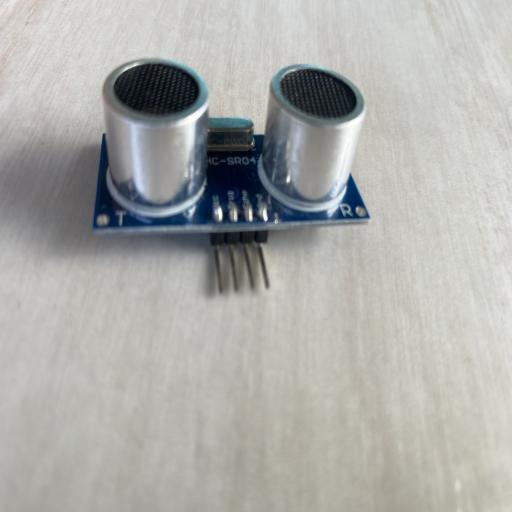Ultrasonic Sensor: (91, 57, 372, 296)
